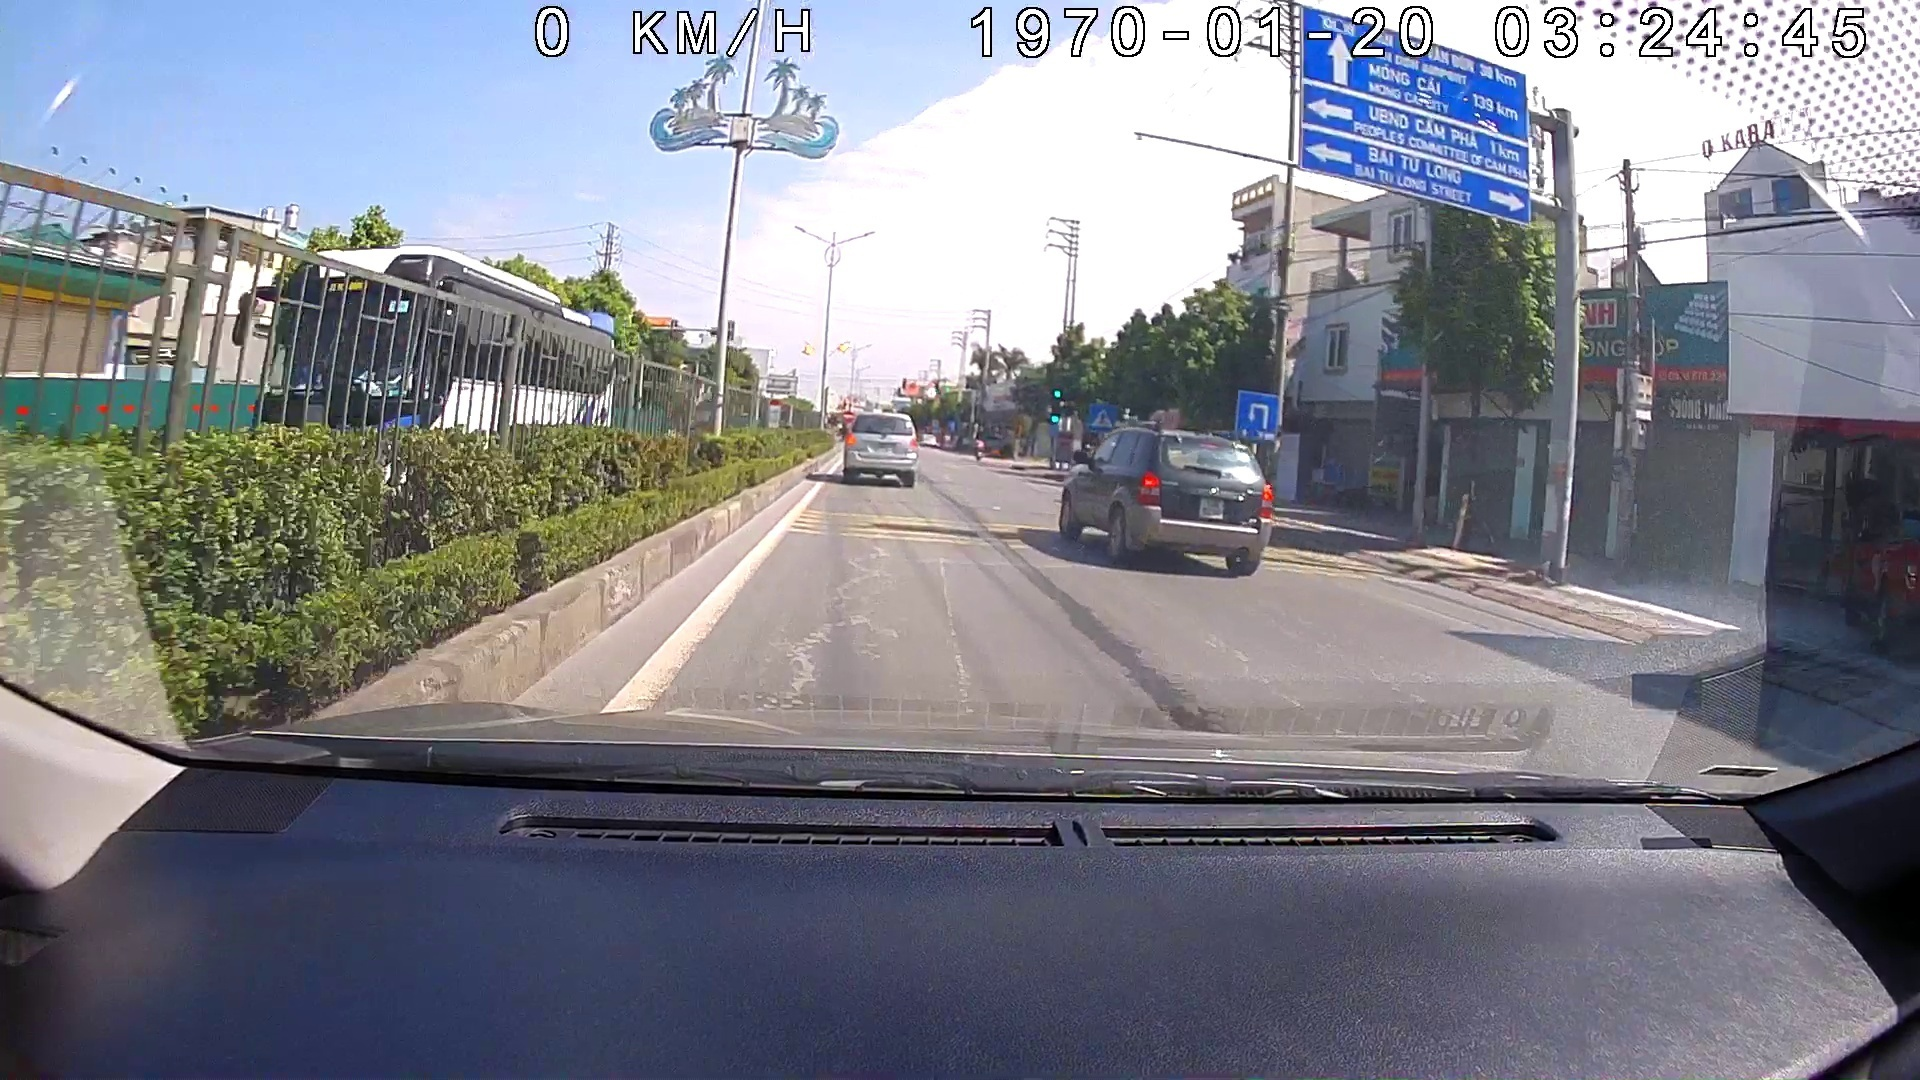Bien khac: (1236, 386, 1276, 439)
Nguoi di bo: (1088, 400, 1117, 434)
